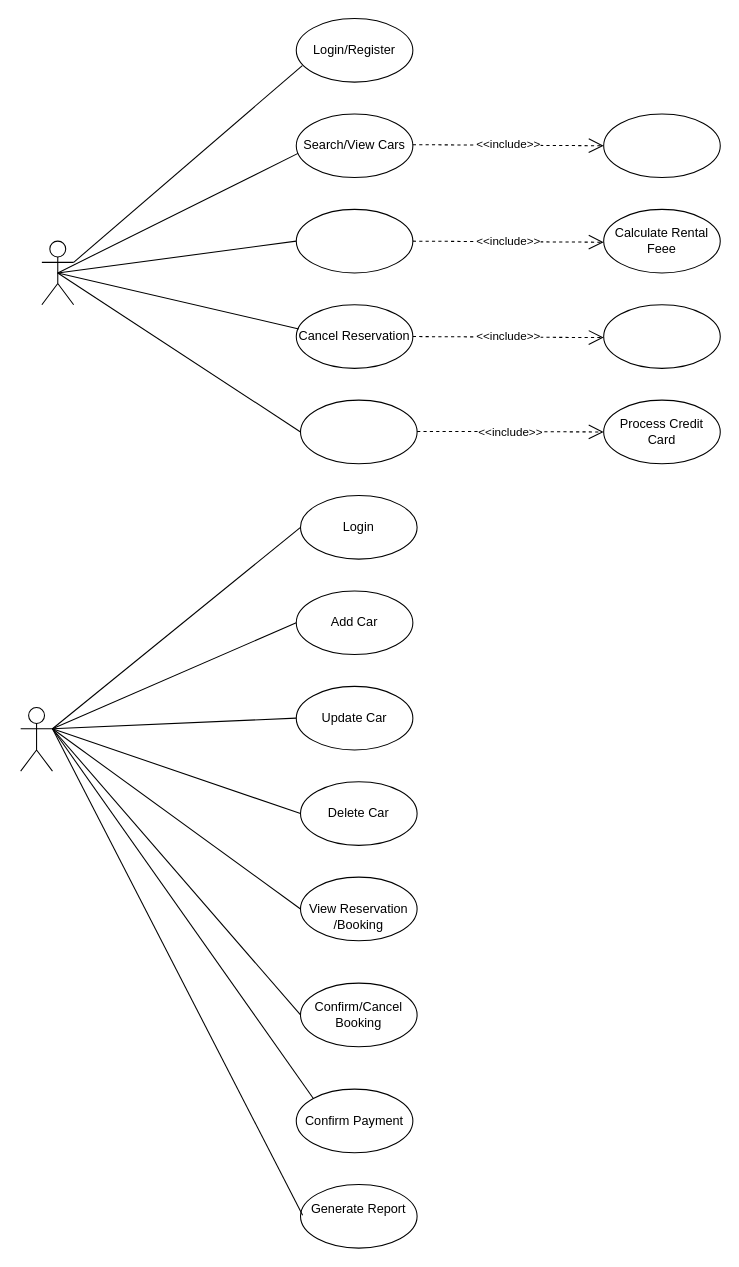
This 739x1267 diagram has some shape labels left out. The shapes that lost their labels are listed below. From the top down, each one's centre as x and y in pixels, then its label:
At pixel 661 145: "View Car Details".
At pixel 354 240: "Book/Reserve Car".
At pixel 57 272: "Customer".
At pixel 661 336: "Validate Availability".
At pixel 358 431: "Make Payment".
At pixel 36 738: "Admin".
